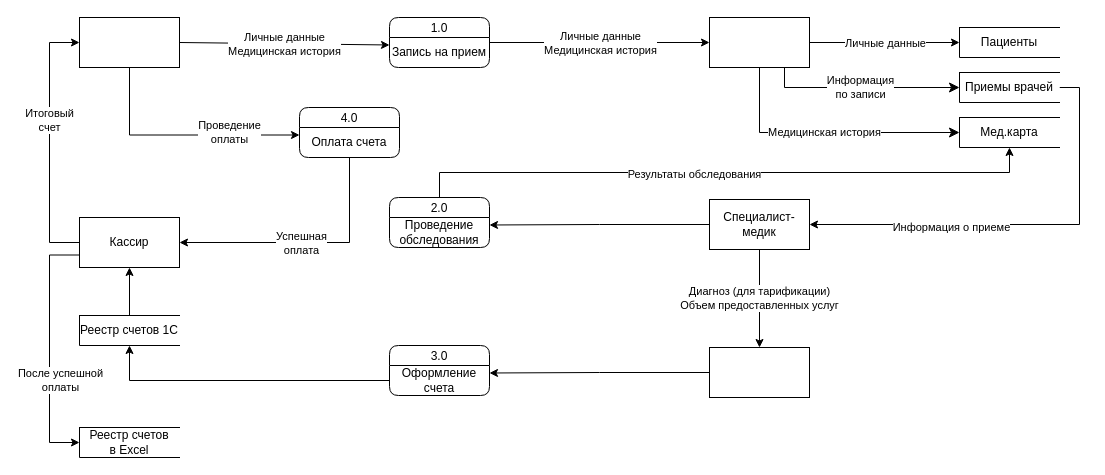
Some shapes in this 1105 by 475 pixel diagram are drawn without their labels. The shapes that lost their labels are listed below. From the top down, each one's centre as x and y in pixels, then its label:
point 129,42: Пациент
point 759,42: Сотрудник Ресепшена
point 759,372: Бухгалтер
